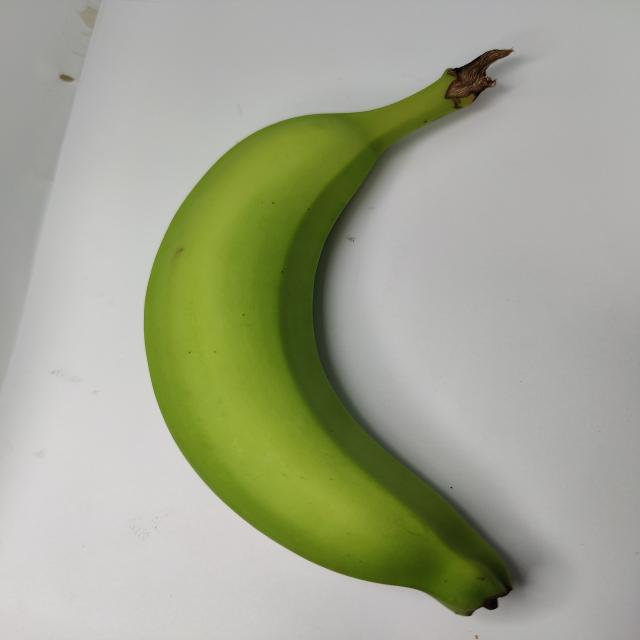raw: (113, 34, 608, 625)
